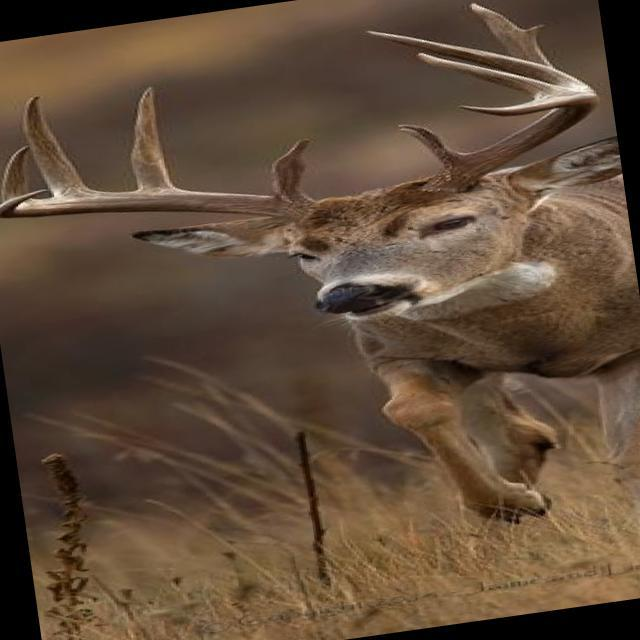L-F: (416, 92, 601, 192)
L-G1: (467, 1, 554, 68), (395, 123, 470, 166)
L-G2: (361, 29, 598, 91)
L-G3: (413, 52, 588, 99)
R-F: (0, 188, 320, 221)
R-G1: (270, 136, 320, 196)
R-G2: (128, 85, 184, 191)
R-G3: (20, 95, 105, 197)
